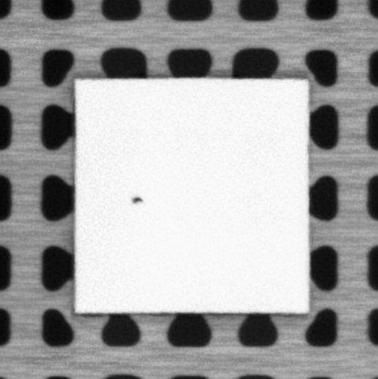DIE_INK: (130, 194, 144, 204)
